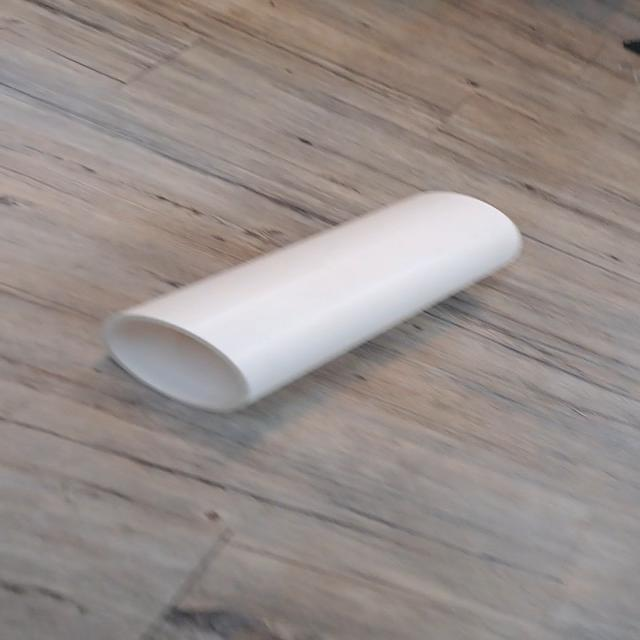CORAL: (99, 178, 532, 416)
